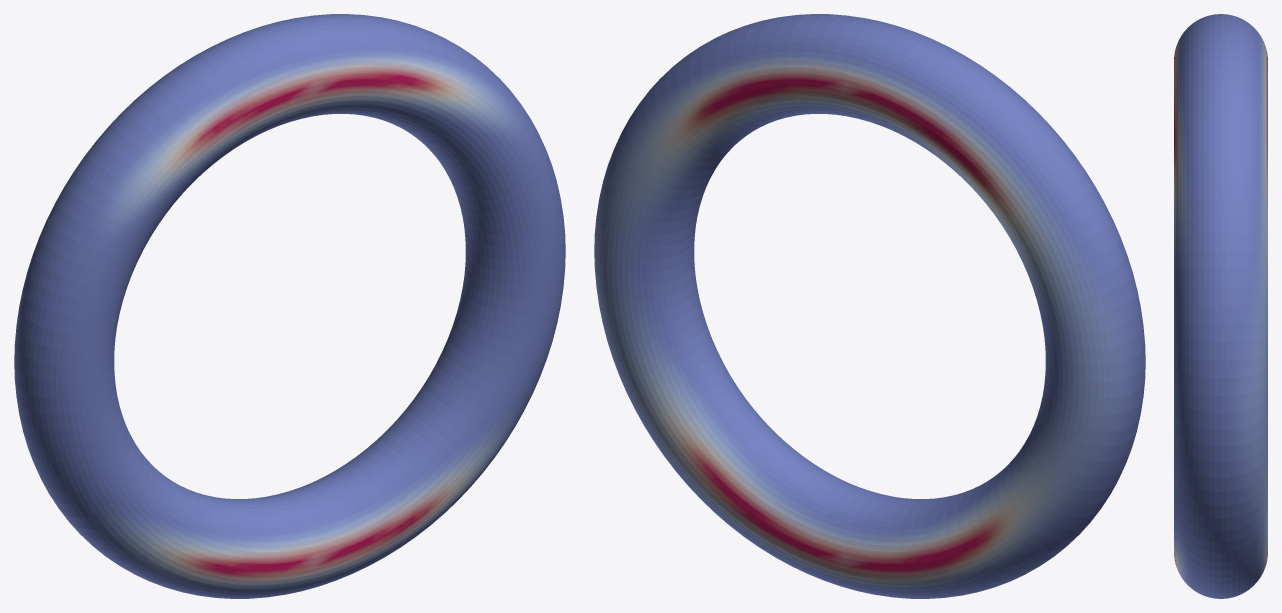
3 views of the same model, side by side, from view 1: azimuth 30°, elevation 25°; view 2: azimuth 150°, elevation 25°; view 3: azimuth 270°, elevation 25° (orthographic). The views are drawn at different scales.
Parts seen in each view (by area): view 1: world; view 2: world; view 3: world.
Part boxes in pixels (<box>): world: <box>14,14,565,598</box>; world: <box>594,14,1145,598</box>; world: <box>1174,14,1267,598</box>.
Bounding box in the file's own units: 19.07 × 19.07 × 3.06.
